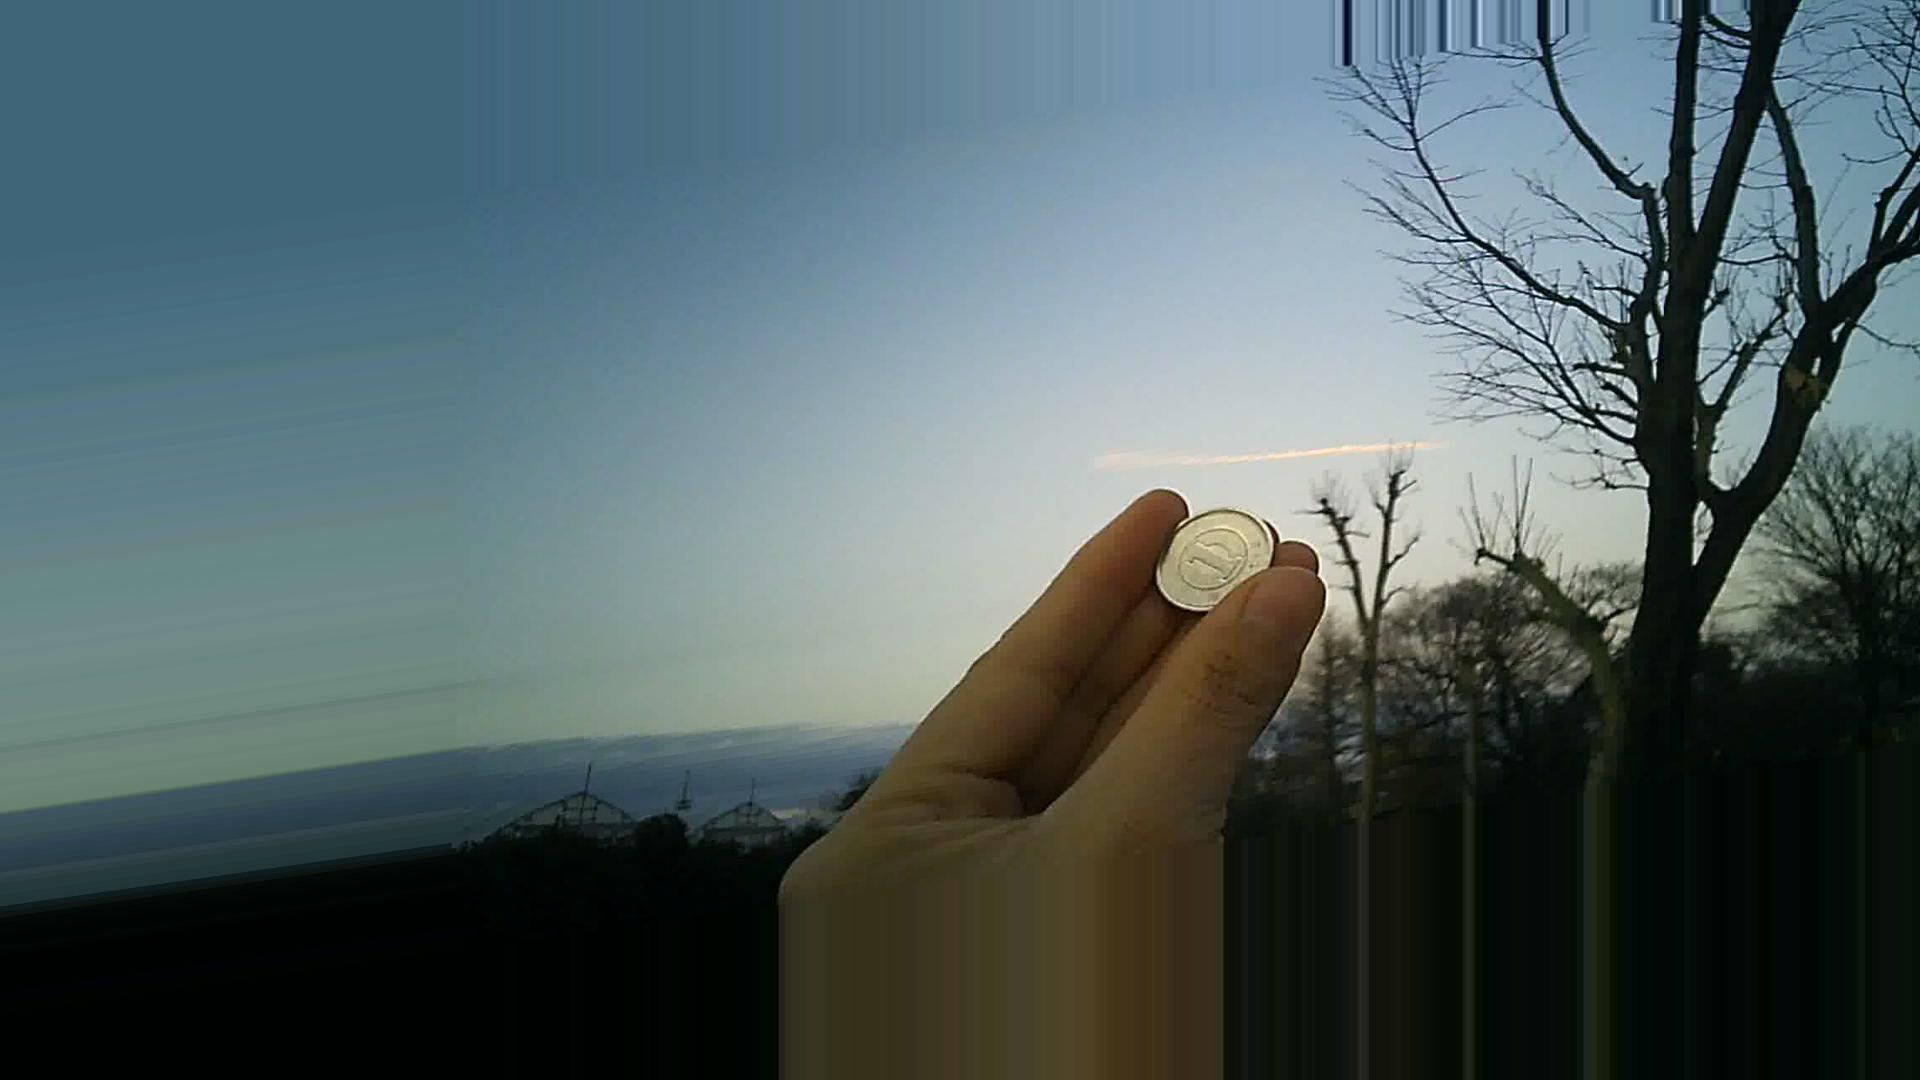1 Yen: (1142, 504, 1273, 611)
